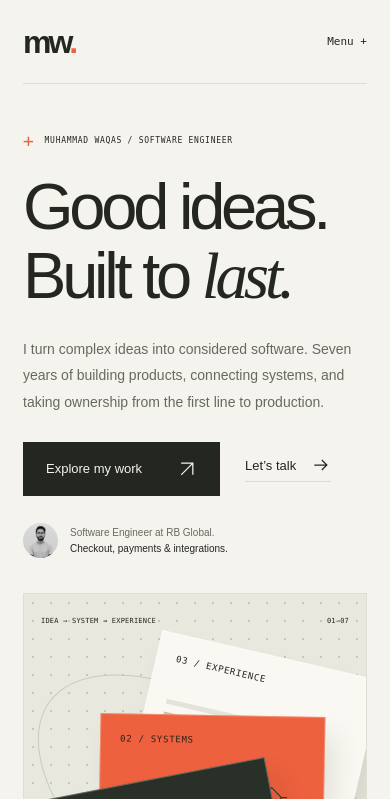
Test: redesigned portfolio › opens and closes mobile navigation
Click the button with aria-label "Toggle navigation": (347, 42) [327,25,367,58]
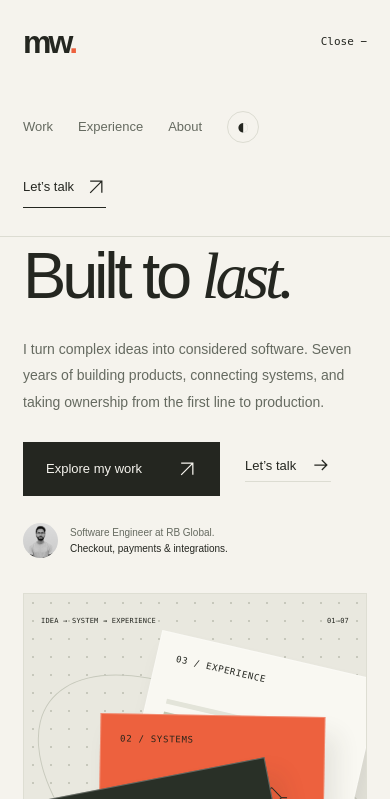
Expected: the button with aria-label "Toggle navigation" is expanded, [321,25,367,58]
Click the link "Work": (38, 127) [23,117,53,137]
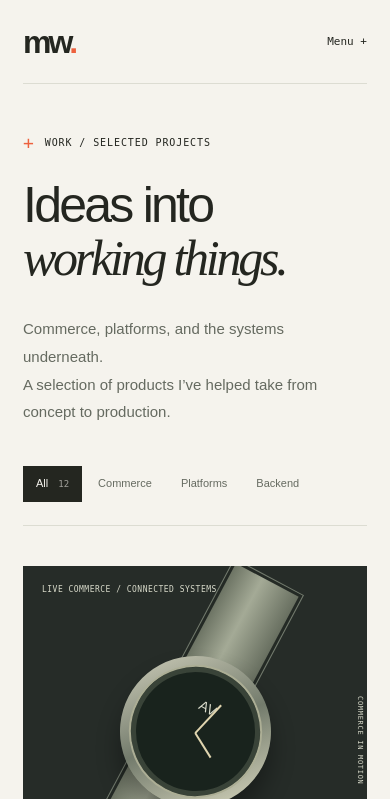
Expected: the button with aria-label "Toggle navigation" is collapsed, [327,25,367,58]
